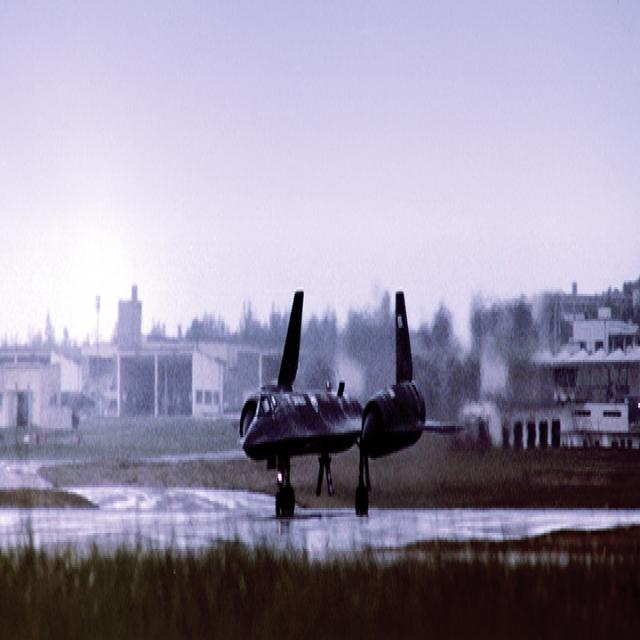MIL_Plane: (230, 290, 468, 520)
